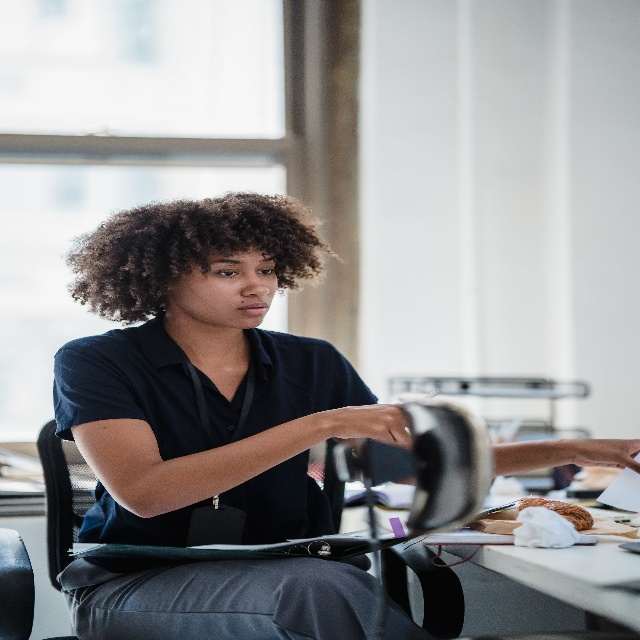Sin_guantes: (560, 437, 640, 481), (332, 401, 411, 442)
